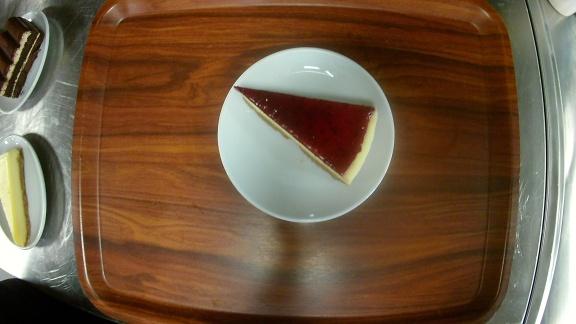frambuazlipasta: (218, 47, 396, 221)
